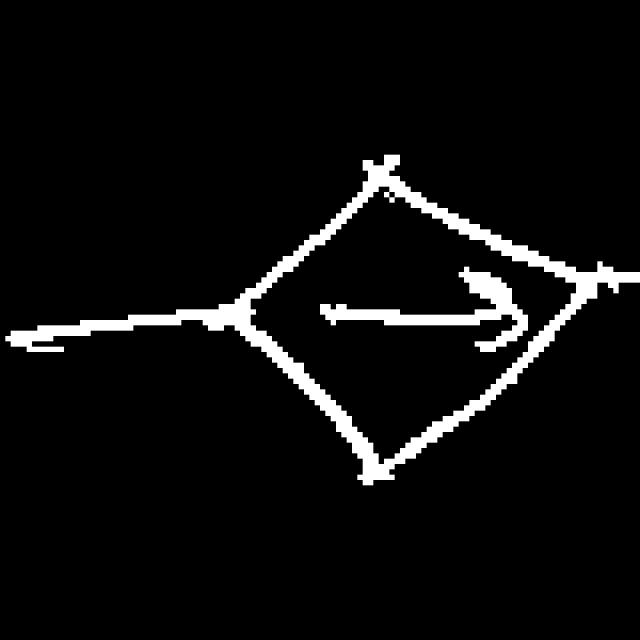dependant_current: (216, 146, 602, 504)
